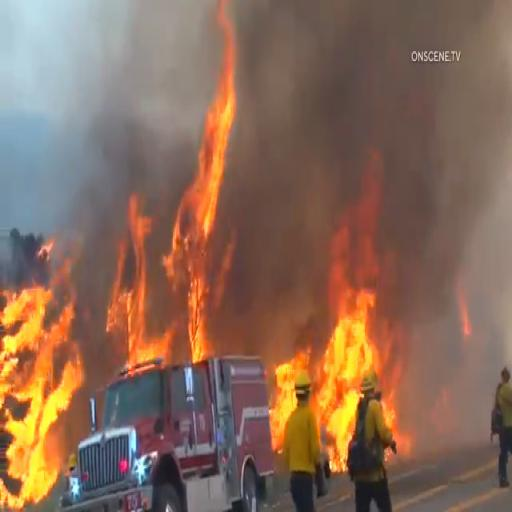fire: (172, 60, 240, 362), (0, 263, 80, 510), (114, 205, 154, 362), (324, 297, 366, 438)
smoke: (279, 26, 377, 154)
